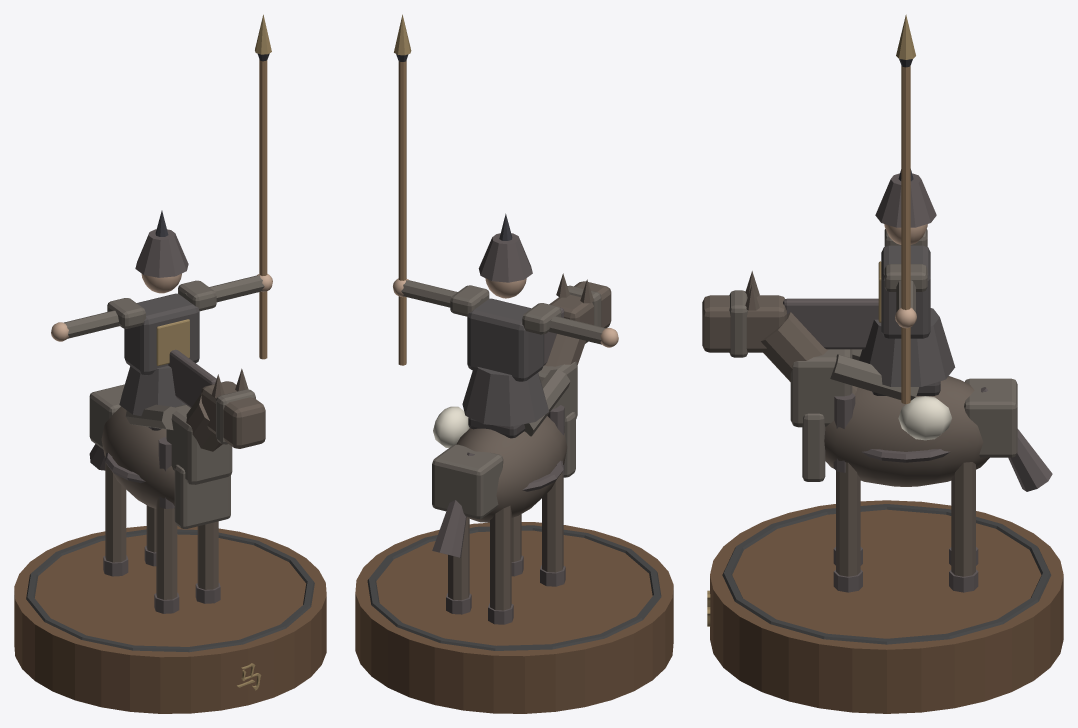
File: horse_black.glb
3 views of the same model, side by side, from view 1: azimuth 30°, elevation 25°; view 2: azimuth 150°, elevation 25°; view 3: azimuth 270°, elevation 25° (orthographic). The views are drawn at different scales.
Parts seen in each view (by area): view 1: base, h_body, base_trim_top, h_rider_cuirass, h_armor_neck, h_armor_chest, h_head, h_spear, h_rider_skirt, h_leg_-0.07_-0.15, h_leg_-0.07_0.15, h_rider_kui (+13 smaller); view 2: base, h_body, h_rider_cuirass, h_armor_rump, base_trim_top, h_rider_skirt, h_spear, h_leg_-0.07_0.15, h_rider_kui, h_leg_-0.07_-0.15, h_head, h_tail (+11 smaller); view 3: base, h_body, base_trim_top, h_rider_skirt, h_mane, h_armor_rump, h_head, h_spear, h_armor_neck, h_leg_0.07_0.15, h_leg_0.07_-0.15, h_rider_cuirass (+10 smaller).
Part boxes in pixels (x1,y1,x2,y2): base: (14, 525, 326, 713); h_body: (101, 406, 174, 508); base_trim_top: (26, 529, 314, 652); h_rider_cuirass: (124, 293, 199, 375); h_armor_neck: (166, 404, 232, 484); h_armor_chest: (174, 464, 230, 528); h_head: (201, 381, 265, 448); h_spear: (259, 59, 267, 359); h_rider_skirt: (119, 365, 185, 415); h_leg_-0.07_-0.15: (156, 497, 177, 599); h_leg_-0.07_0.15: (105, 462, 126, 562); h_rider_kui: (135, 229, 188, 277); base: (355, 522, 673, 713); h_body: (456, 416, 567, 522); h_rider_cuirass: (467, 298, 544, 381); h_armor_rump: (432, 444, 503, 518); base_trim_top: (367, 525, 661, 650); h_rider_skirt: (462, 367, 548, 426); h_spear: (398, 60, 406, 365); h_leg_-0.07_0.15: (490, 505, 511, 610); h_rider_kui: (478, 233, 532, 282); h_leg_-0.07_-0.15: (542, 472, 563, 572); h_head: (549, 281, 611, 343); h_tail: (432, 452, 474, 557); base: (710, 500, 1063, 713); h_body: (824, 376, 989, 486); base_trim_top: (722, 504, 1051, 644); h_rider_skirt: (859, 308, 955, 386); h_mane: (783, 298, 878, 349); h_armor_rump: (964, 378, 1017, 457); h_head: (702, 295, 786, 352); h_spear: (901, 66, 910, 403); h_armor_neck: (790, 349, 852, 427); h_leg_0.07_0.15: (951, 462, 975, 576); h_leg_0.07_-0.15: (836, 462, 860, 576); h_rider_cuirass: (881, 245, 930, 338).
Size of the model in its own units: 0.92 by 1.95 by 0.94.
